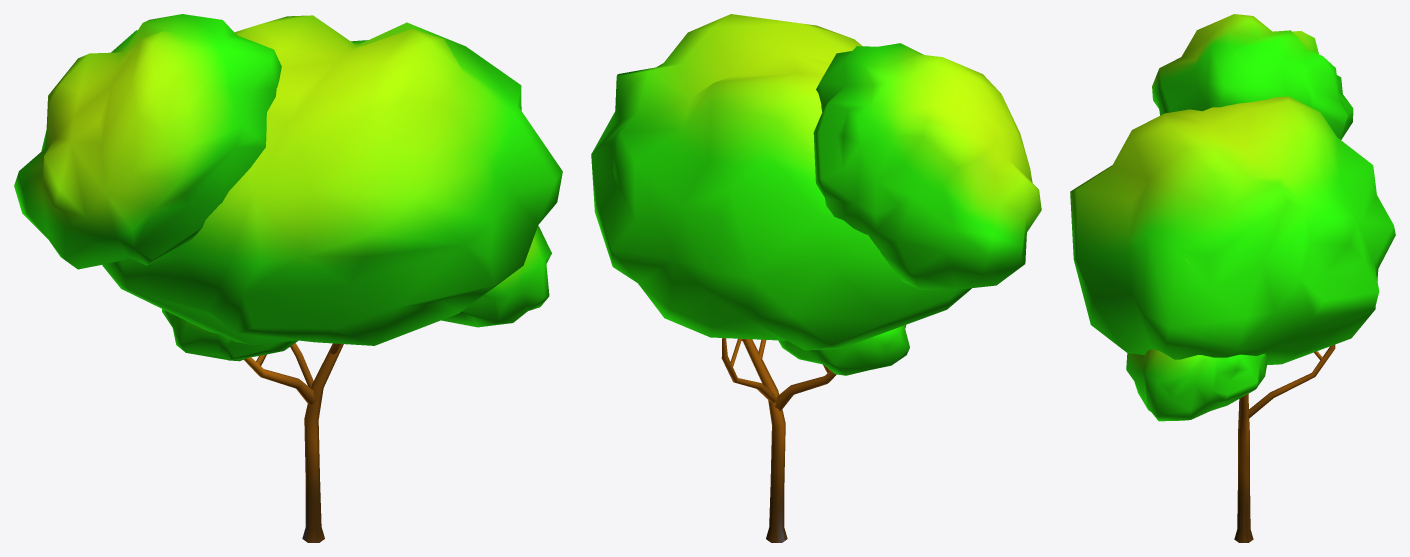
The model's file is TreeStyle3Blue_01.fbx.
3 views of the same model, side by side, from view 1: azimuth 30°, elevation 25°; view 2: azimuth 150°, elevation 25°; view 3: azimuth 270°, elevation 25° (orthographic). The views are drawn at different scales.
Parts seen in each view (by area): view 1: TreeStyle3_01; view 2: TreeStyle3_01; view 3: TreeStyle3_01.
Part boxes in pixels (box(x1,y1,x2,y2)): TreeStyle3_01: box(14, 14, 562, 542); TreeStyle3_01: box(591, 14, 1041, 542); TreeStyle3_01: box(1070, 14, 1395, 542).
Size of the model in its own units: 1284 by 1390 by 896.
